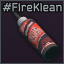FireKlean gun lube: (0, 0, 64, 64)
